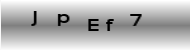7: (128, 12, 143, 28)
E: (87, 18, 100, 32)
J: (30, 10, 38, 27)
f: (104, 18, 115, 32)
p: (54, 12, 71, 27)
